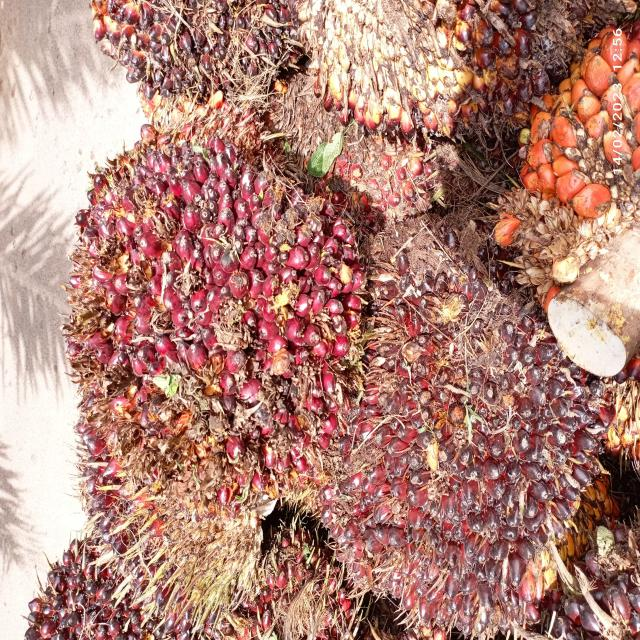fraksi 1: (333, 195, 596, 640)
fraksi 3: (24, 65, 388, 577)
fraksi 4: (492, 0, 640, 335)
